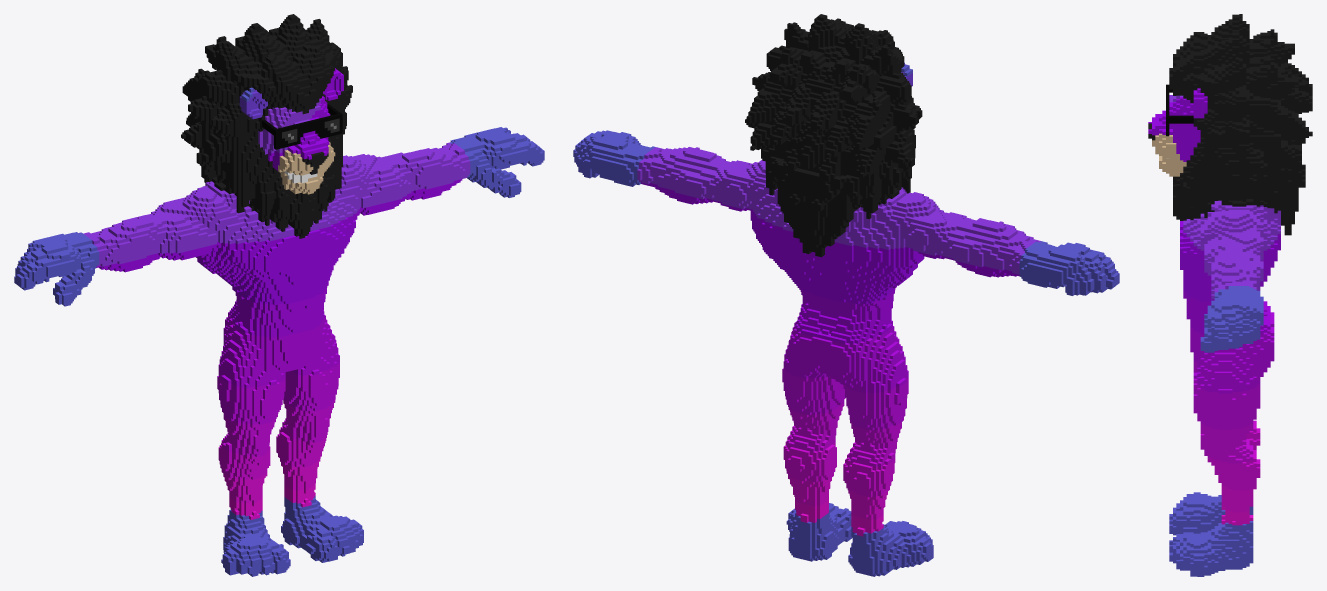
The model's file is 184-K6GwsN1n.glb.
3 renders of one model, left to right at view 1: azimuth 30°, elevation 25°; view 2: azimuth 150°, elevation 25°; view 3: azimuth 270°, elevation 25°, orthographic. The views are drawn at different scales.
Parts seen in each view (by area): view 1: grin; view 2: grin; view 3: grin.
Part boxes in pixels (left/top/right/bottom): grin: left=14, top=14, right=544, bottom=576; grin: left=573, top=14, right=1119, bottom=576; grin: left=1148, top=14, right=1312, bottom=576.
Bounding box in the file's own units: 17.2 × 16.5 × 4.7.
4 materials, 4 textured.
